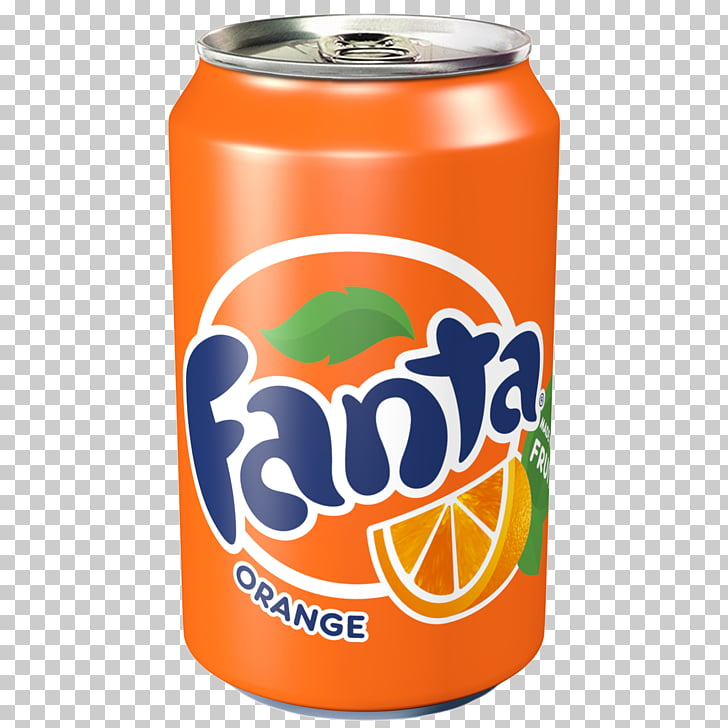Fanta: (157, 23, 566, 716)
